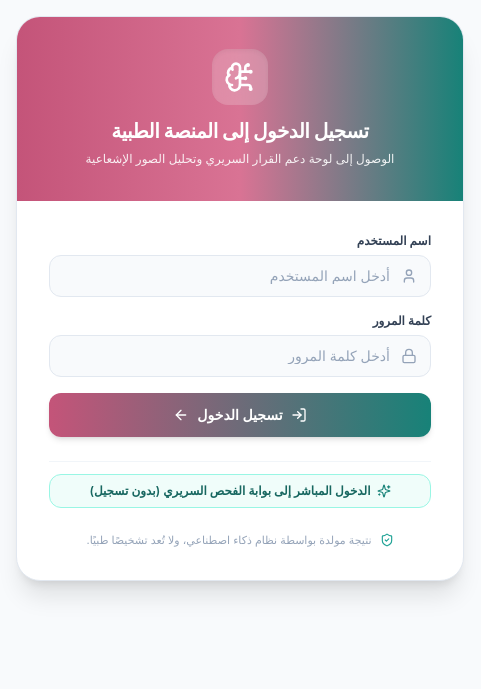
Frontend Auth & RBAC Test Suite (Task 19 & Task 21) › 4. Invalid credentials display error alert
Type "wrongadmin" into the field labelled "اسم المستخدم". click: (240, 276)
box: [49,254,431,296]
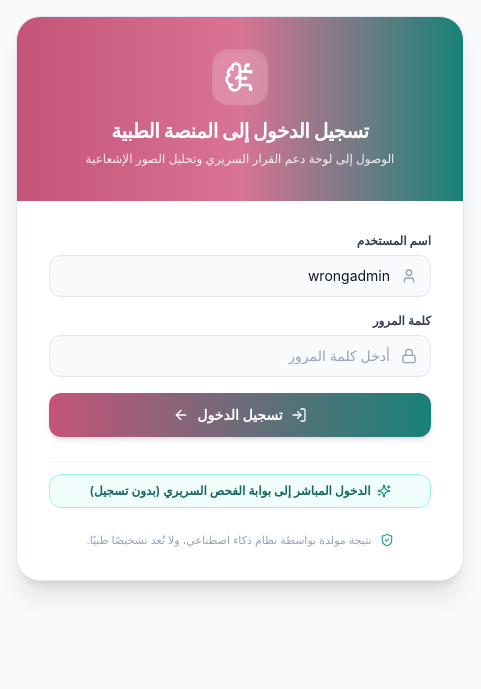
Type "wrongpass" into the password field labelled "كلمة المرور". click: (240, 356)
box: [49,334,431,376]
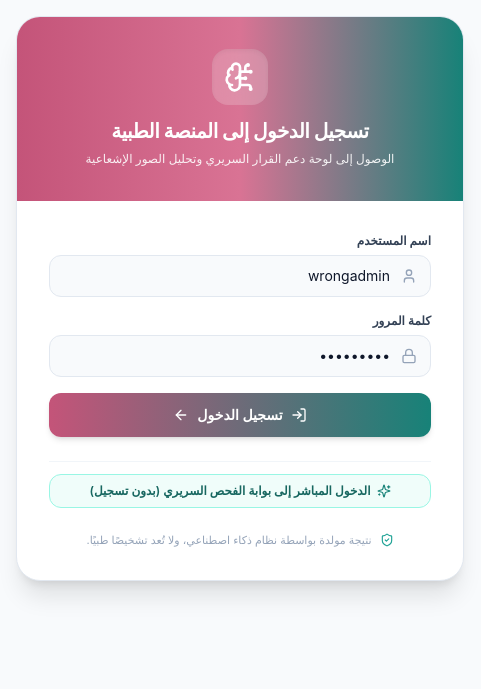
Click the button "تسجيل الدخول". click: (240, 414)
box: [49,392,431,436]
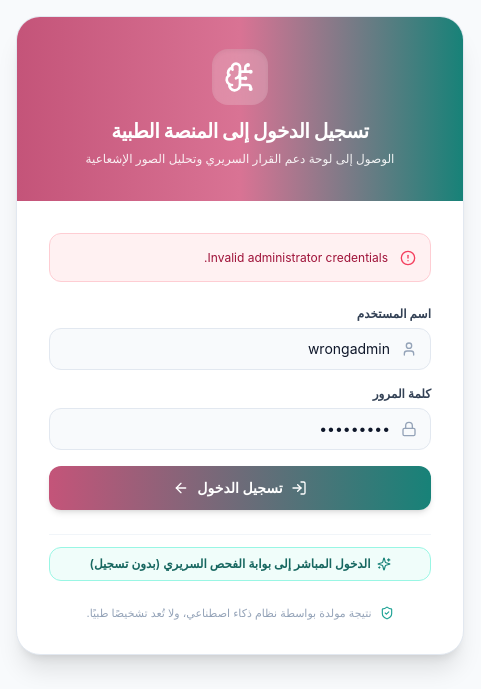
Expected: the message "Invalid administrator credentials." is shown, [49,232,431,282]
